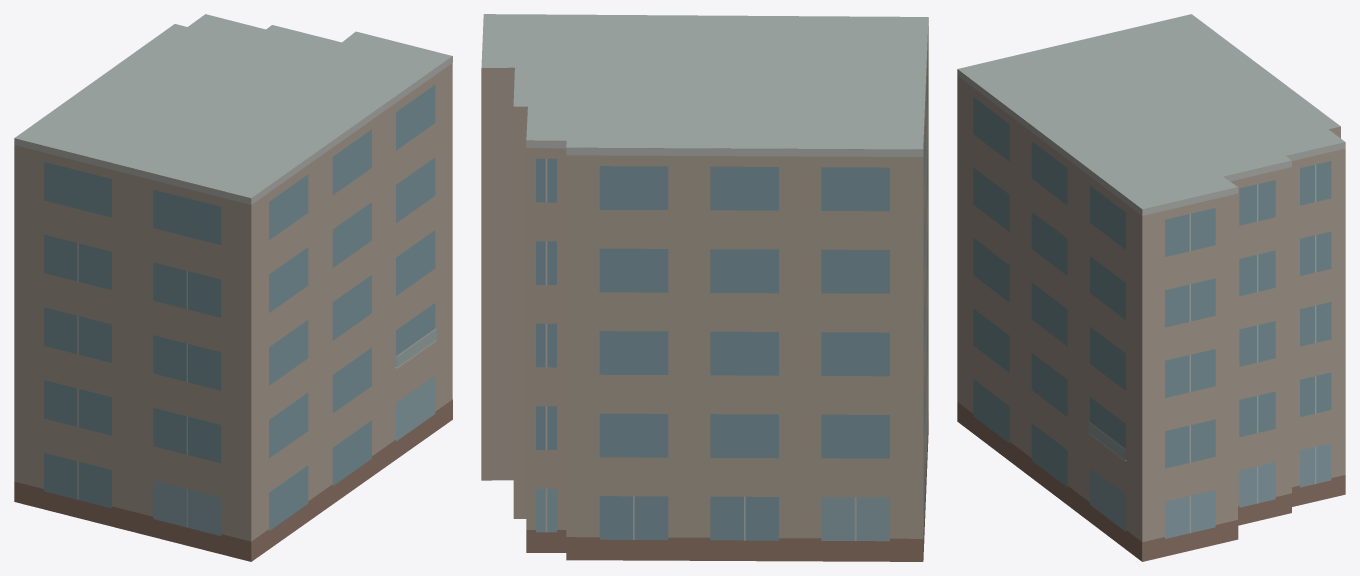
File: survey-upis-32657246.glb
The picture shows the model from 3 angles, left to right: view 1: azimuth 30°, elevation 25°; view 2: azimuth 150°, elevation 25°; view 3: azimuth 270°, elevation 25°; orthographic projection. The views are drawn at different scales.
Visible parts, largest first — view 1: survey-upis-32657246.tmp; view 2: survey-upis-32657246.tmp; view 3: survey-upis-32657246.tmp.
Part boxes in pixels (<box>): survey-upis-32657246.tmp: <box>14,14,452,561</box>; survey-upis-32657246.tmp: <box>481,14,928,561</box>; survey-upis-32657246.tmp: <box>957,14,1345,561</box>.
Bounding box in the file's own units: 15.58 × 13.1 × 13.08.
